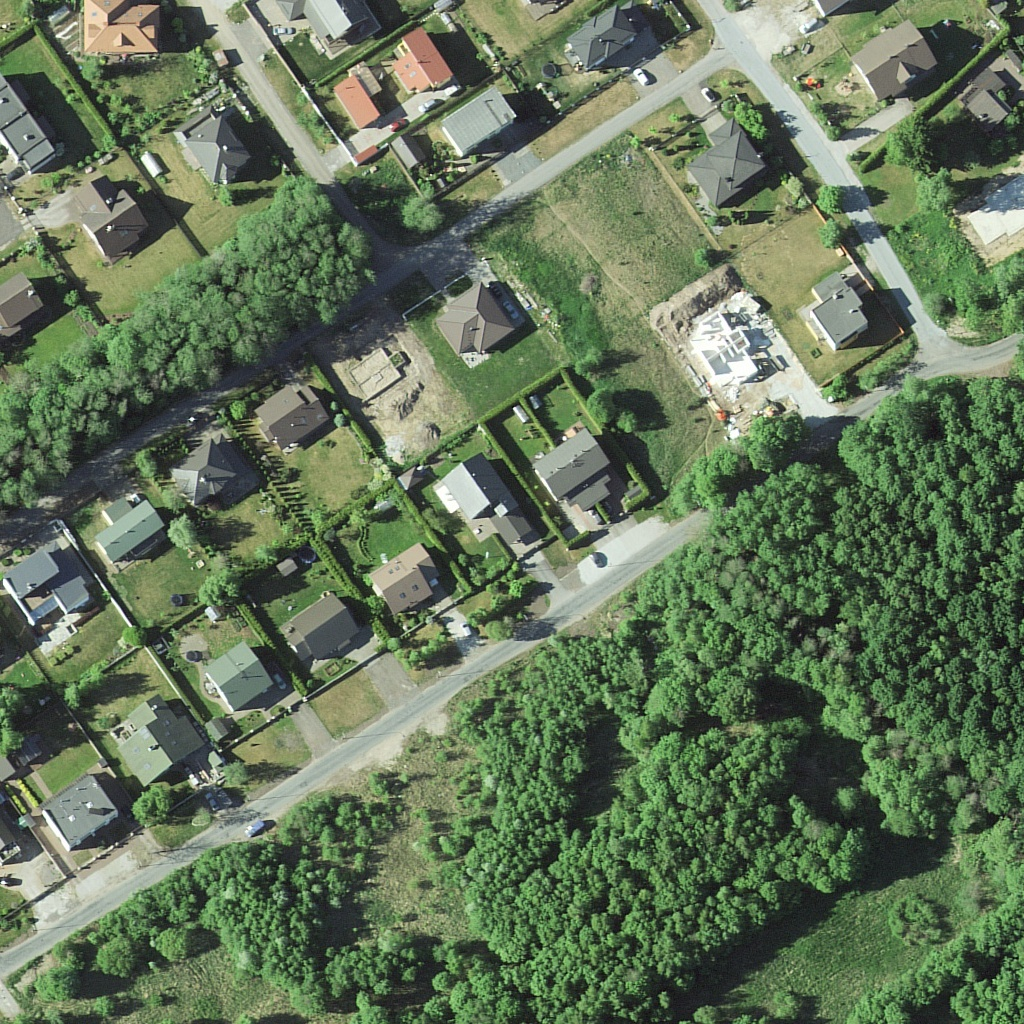building: (110, 696, 205, 784), (851, 24, 941, 105), (434, 281, 518, 362), (685, 123, 767, 205), (249, 371, 334, 450), (83, 490, 172, 561), (77, 176, 154, 253), (178, 113, 252, 189), (447, 452, 518, 531), (43, 770, 118, 844), (812, 264, 872, 355), (197, 644, 276, 713), (437, 89, 517, 157), (1, 75, 52, 175), (10, 545, 78, 617), (289, 597, 361, 662), (84, 1, 168, 55), (388, 26, 455, 93), (540, 435, 607, 501), (170, 441, 238, 506), (569, 6, 634, 69), (372, 544, 432, 609), (334, 68, 385, 126), (1, 271, 49, 326)
